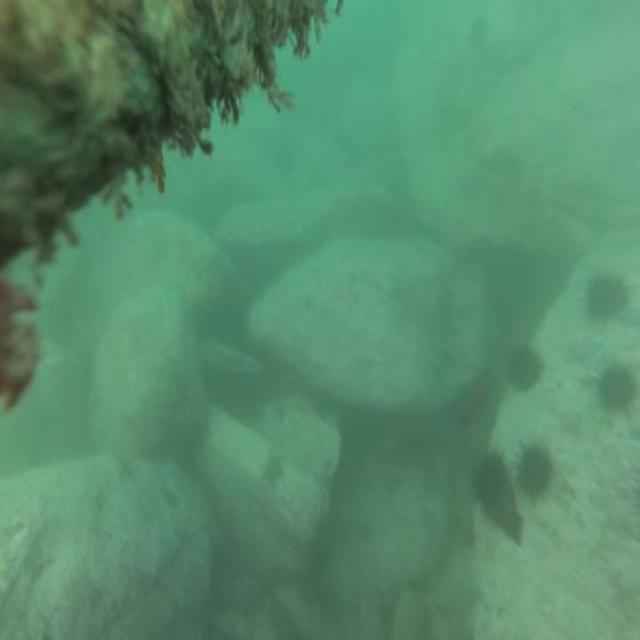echinus: (581, 267, 631, 329), (513, 438, 556, 509), (469, 446, 511, 516), (594, 356, 640, 418), (501, 341, 546, 395), (465, 9, 489, 49)
starfish: (259, 449, 286, 493), (267, 394, 293, 428)
